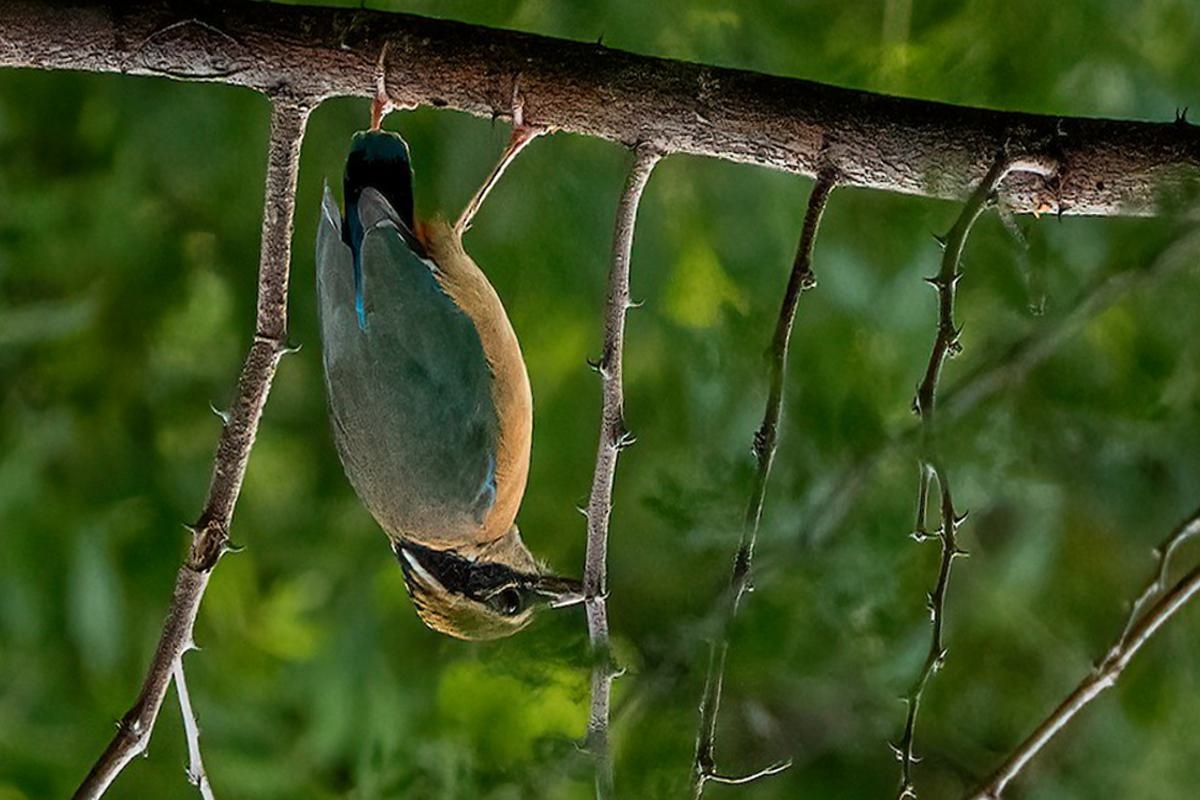pitta: (288, 38, 601, 642)
